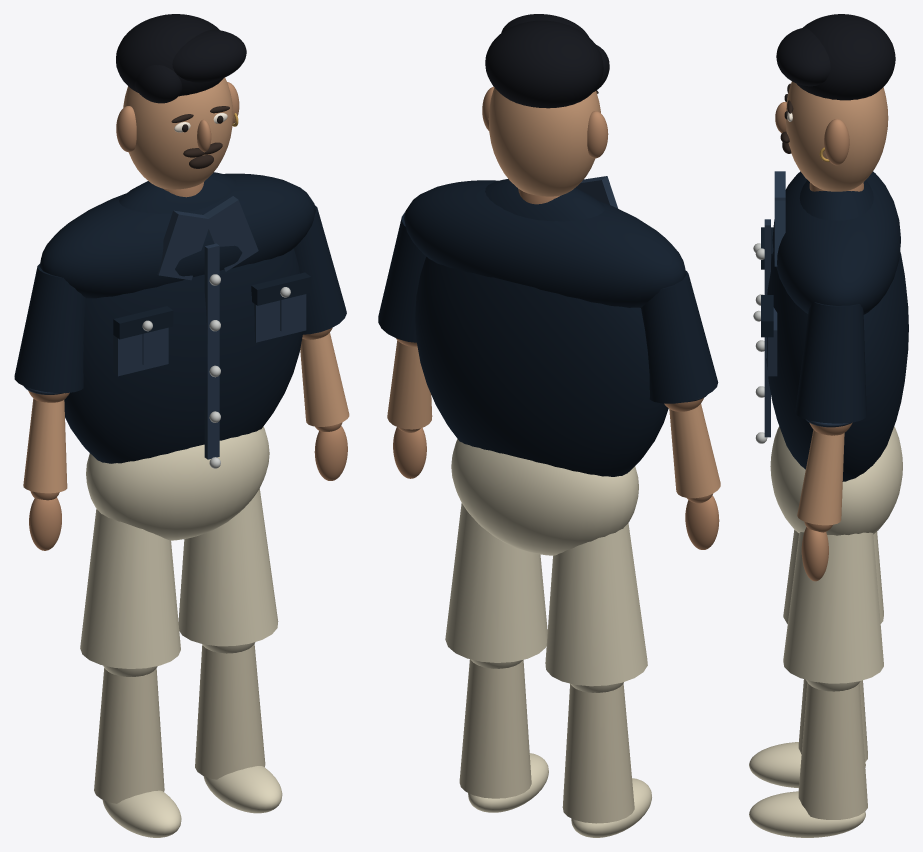
Rendered from adarsh-photo-avatar.glb.
3 views of the same model, side by side, from view 1: azimuth 30°, elevation 25°; view 2: azimuth 150°, elevation 25°; view 3: azimuth 270°, elevation 25° (orthographic). The views are drawn at different scales.
Visible parts, largest first — view 1: Adarsh Singh Kushwah — photo-informed 3D illustration; view 2: Adarsh Singh Kushwah — photo-informed 3D illustration; view 3: Adarsh Singh Kushwah — photo-informed 3D illustration.
Boxes of the visible parts, bbox=[...] form: Adarsh Singh Kushwah — photo-informed 3D illustration: bbox=[14, 14, 349, 837]; Adarsh Singh Kushwah — photo-informed 3D illustration: bbox=[378, 14, 720, 837]; Adarsh Singh Kushwah — photo-informed 3D illustration: bbox=[749, 14, 908, 837].
Bounding box in the file's own units: 0.9613 × 2.23 × 0.41.
